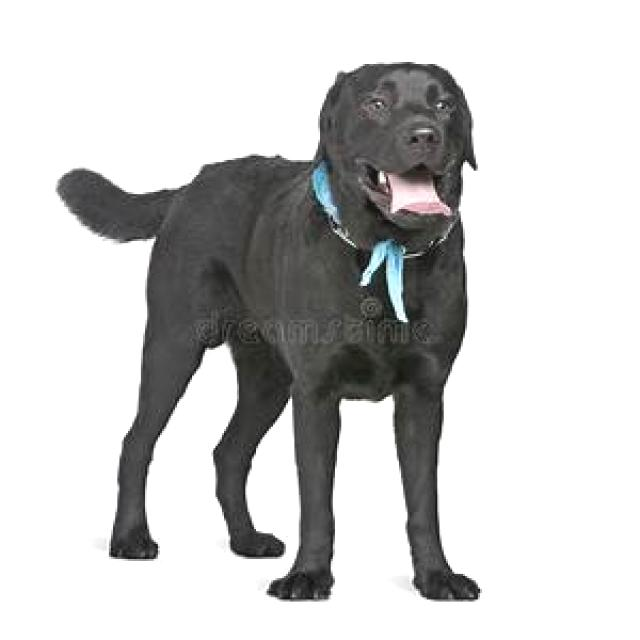KOPEK: (53, 50, 499, 611)
